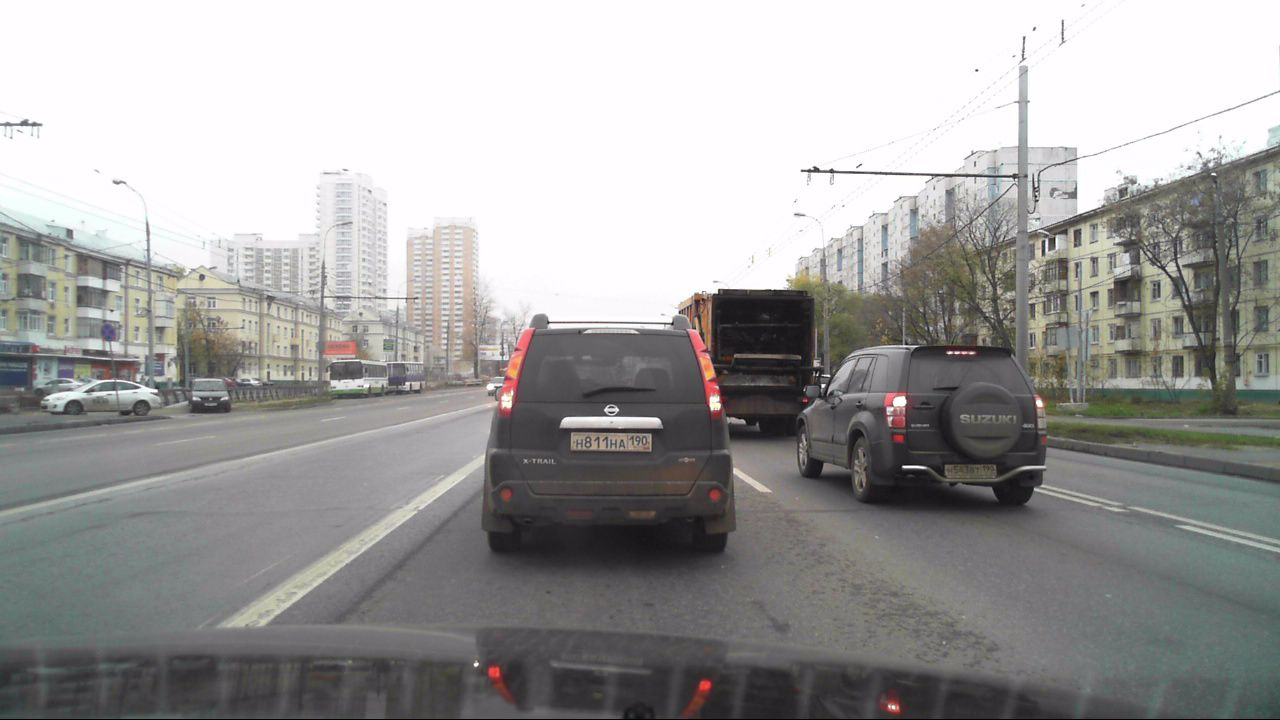No Parking: (101, 324, 119, 342)
